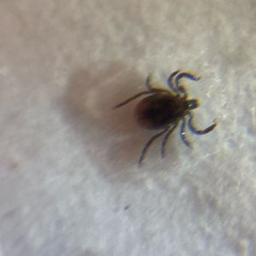Ixodes scapularis: (113, 70, 217, 166)
